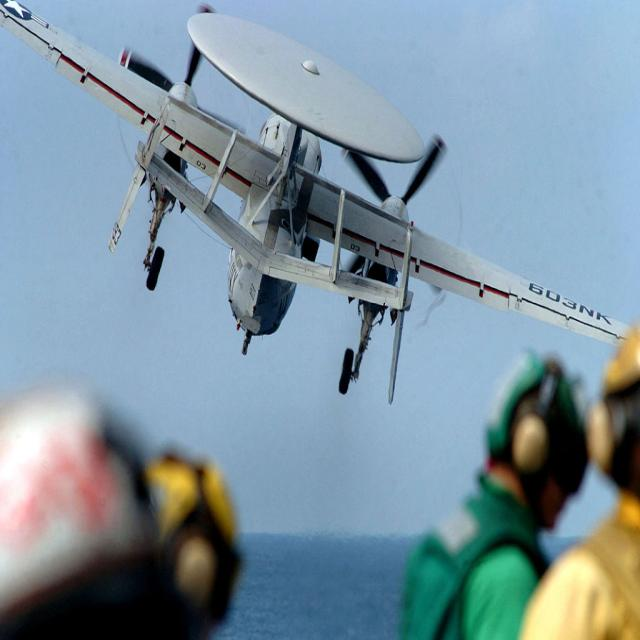MIL_Plane: (206, 0, 324, 405)
